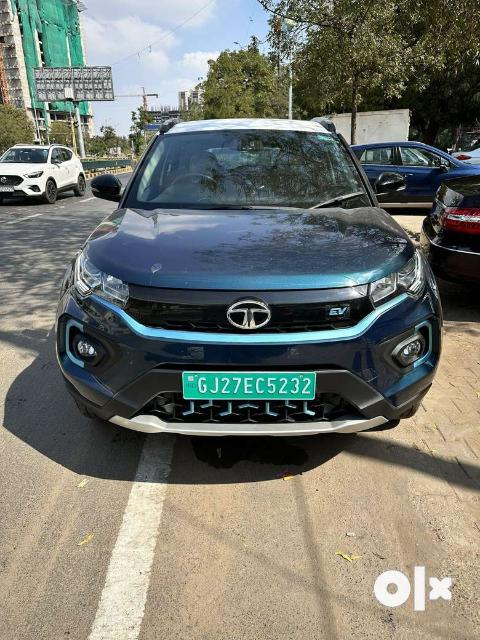Indian_Number_Plate: (182, 374, 314, 398)
